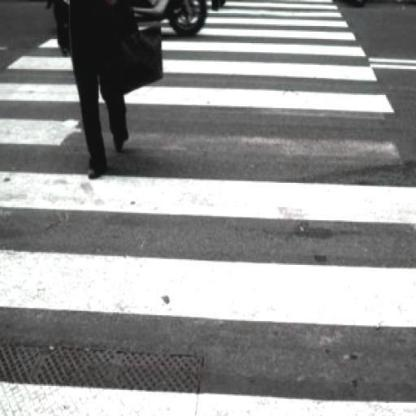crosswalk: (1, 81, 415, 231), (24, 22, 370, 57)
